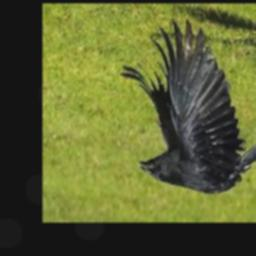Crow: (120, 19, 256, 194)
